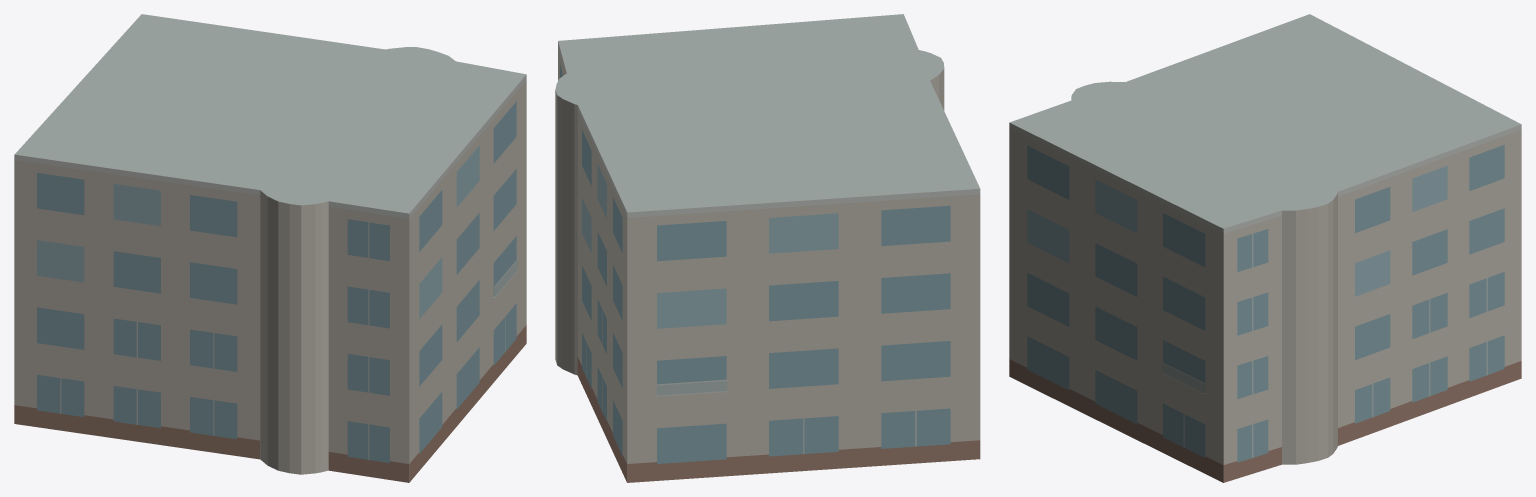
The model's file is survey-upis-32849201.glb.
The picture shows the model from 3 angles, left to right: view 1: azimuth 30°, elevation 25°; view 2: azimuth 150°, elevation 25°; view 3: azimuth 270°, elevation 25°; orthographic projection. The views are drawn at different scales.
Parts seen in each view (by area): view 1: survey-upis-32849201.tmp; view 2: survey-upis-32849201.tmp; view 3: survey-upis-32849201.tmp.
Part boxes in pixels (x1,y1,x2,y2): survey-upis-32849201.tmp: (14, 14, 526, 482); survey-upis-32849201.tmp: (555, 14, 980, 482); survey-upis-32849201.tmp: (1009, 14, 1521, 482).
Size of the model in its own units: 21.94 by 12.1 by 22.11.
